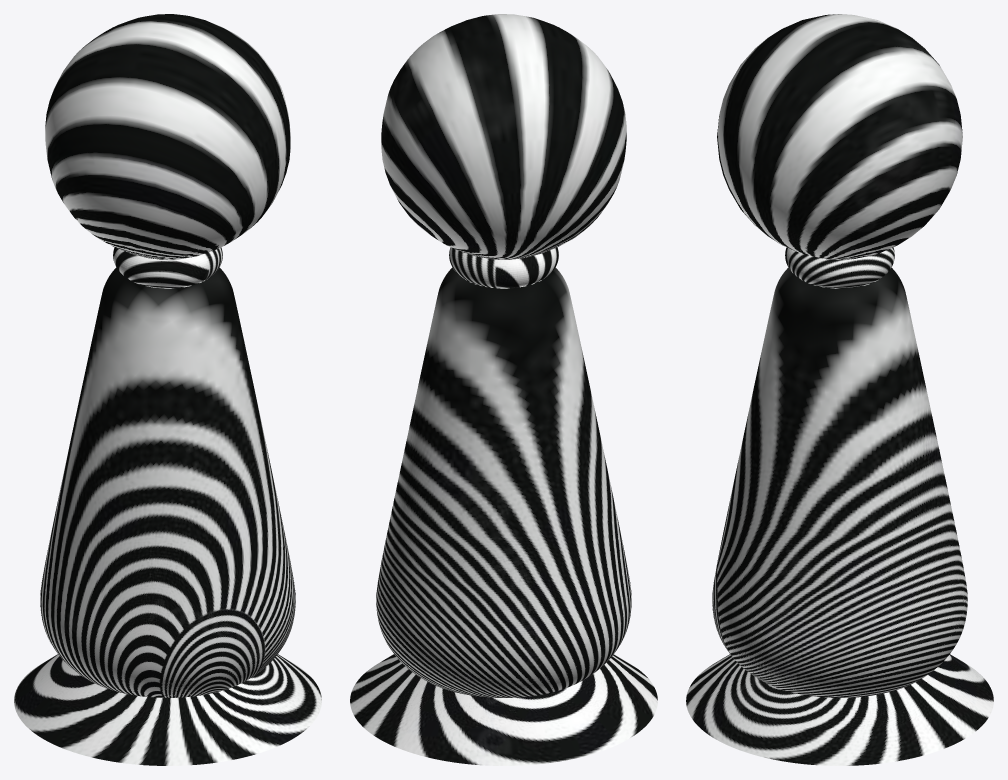
Rendered from pawn test.fbx.
3 renders of one model, left to right at view 1: azimuth 30°, elevation 25°; view 2: azimuth 150°, elevation 25°; view 3: azimuth 270°, elevation 25°, orthographic.
Parts seen in each view (by area): view 1: pawn; view 2: pawn; view 3: pawn.
Boxes of the visible parts, box(x1,y1,x2,y2) form: pawn: box(14, 14, 321, 765); pawn: box(350, 14, 657, 765); pawn: box(686, 14, 993, 765).
Size of the model in its own units: 11.43 by 27.7 by 11.43.
1 material, 1 textured.
